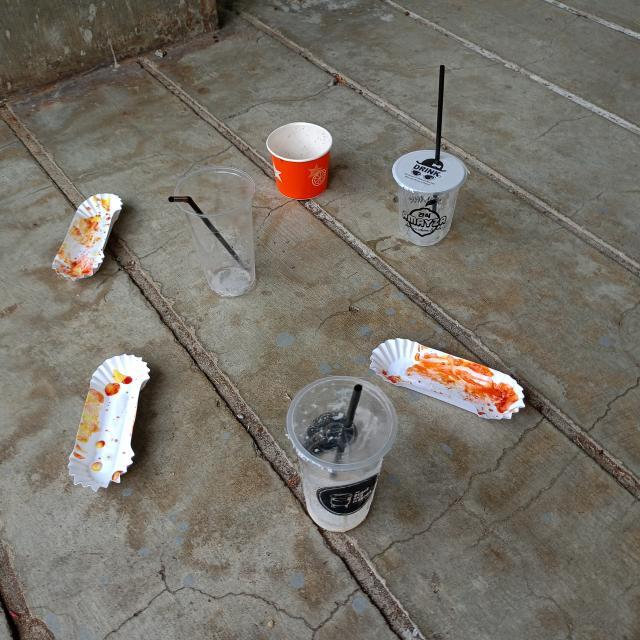recyclable waste: (278, 370, 402, 536), (362, 328, 534, 431), (60, 343, 160, 500), (168, 158, 263, 302), (384, 140, 476, 253), (48, 182, 132, 287), (261, 113, 340, 205)
